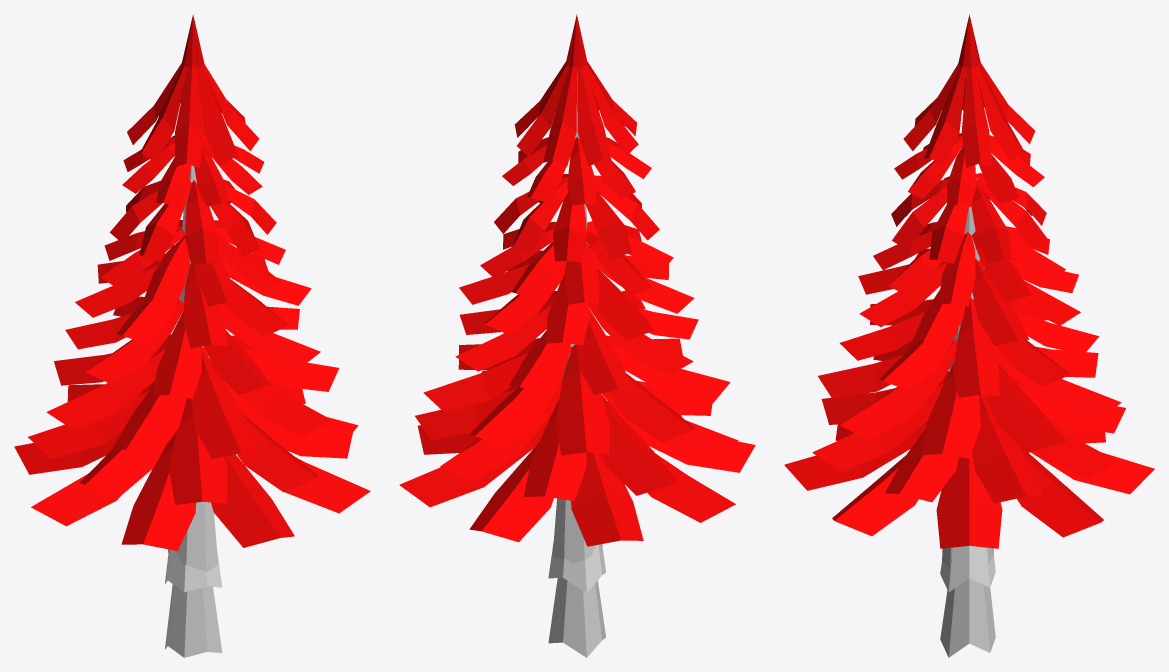
Rendered from ShortTreeFir.fbx.
The picture shows the model from 3 angles, left to right: view 1: azimuth 30°, elevation 25°; view 2: azimuth 150°, elevation 25°; view 3: azimuth 270°, elevation 25°; orthographic projection.
Visible parts, largest first — view 1: Fir-tree, Fir-tree-destroyed, Piece2, Fir-tree-damaged; view 2: Fir-tree, Fir-tree-destroyed, Piece2, Fir-tree-damaged; view 3: Fir-tree, Fir-tree-destroyed, Fir-tree-damaged.
Boxes of the visible parts, <box> form: Fir-tree: <box>14,14,370,592</box>; Fir-tree-destroyed: <box>165,584,222,657</box>; Piece2: <box>168,501,218,571</box>; Fir-tree-damaged: <box>165,550,222,591</box>; Fir-tree: <box>399,14,755,592</box>; Fir-tree-destroyed: <box>548,577,605,657</box>; Piece2: <box>552,498,602,563</box>; Fir-tree-damaged: <box>548,542,605,592</box>; Fir-tree: <box>784,14,1154,591</box>; Fir-tree-destroyed: <box>940,579,995,657</box>; Fir-tree-damaged: <box>940,545,995,591</box>.
Size of what is drawn, in the model's own units: 37716 by 71439 by 37703.
